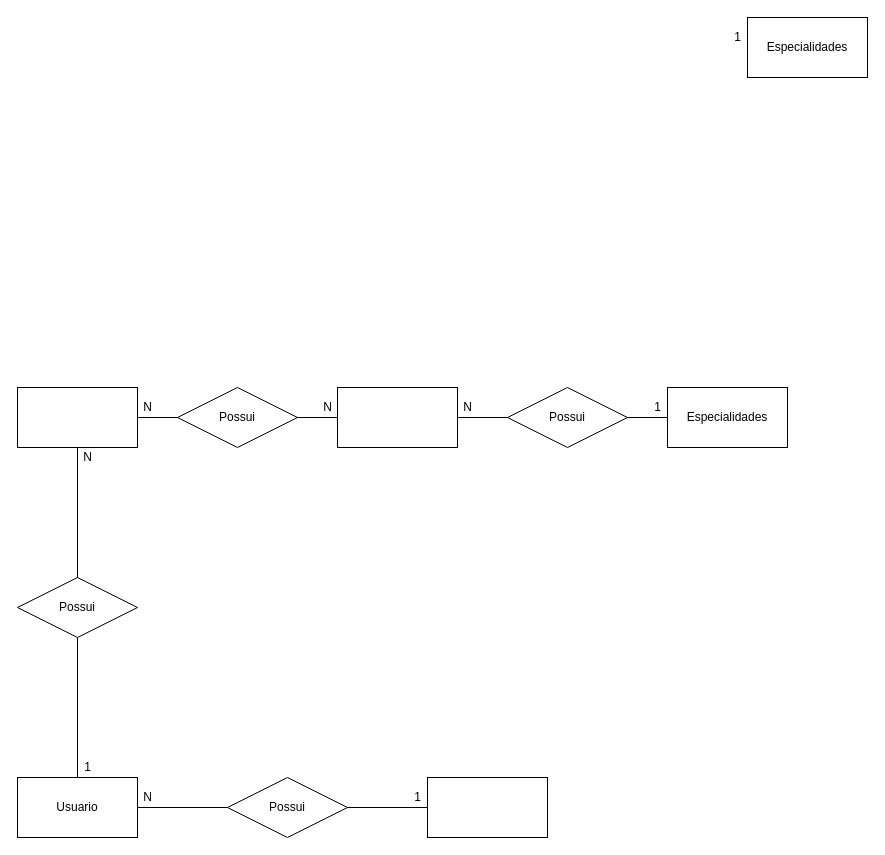
Image size: 885x855. Some labels were removed from this diagram. Each missing label, with the box of its shape:
Consulta: (16, 386, 138, 448)
Medico: (336, 386, 458, 448)
TipoDeuUsuario: (426, 776, 548, 838)
